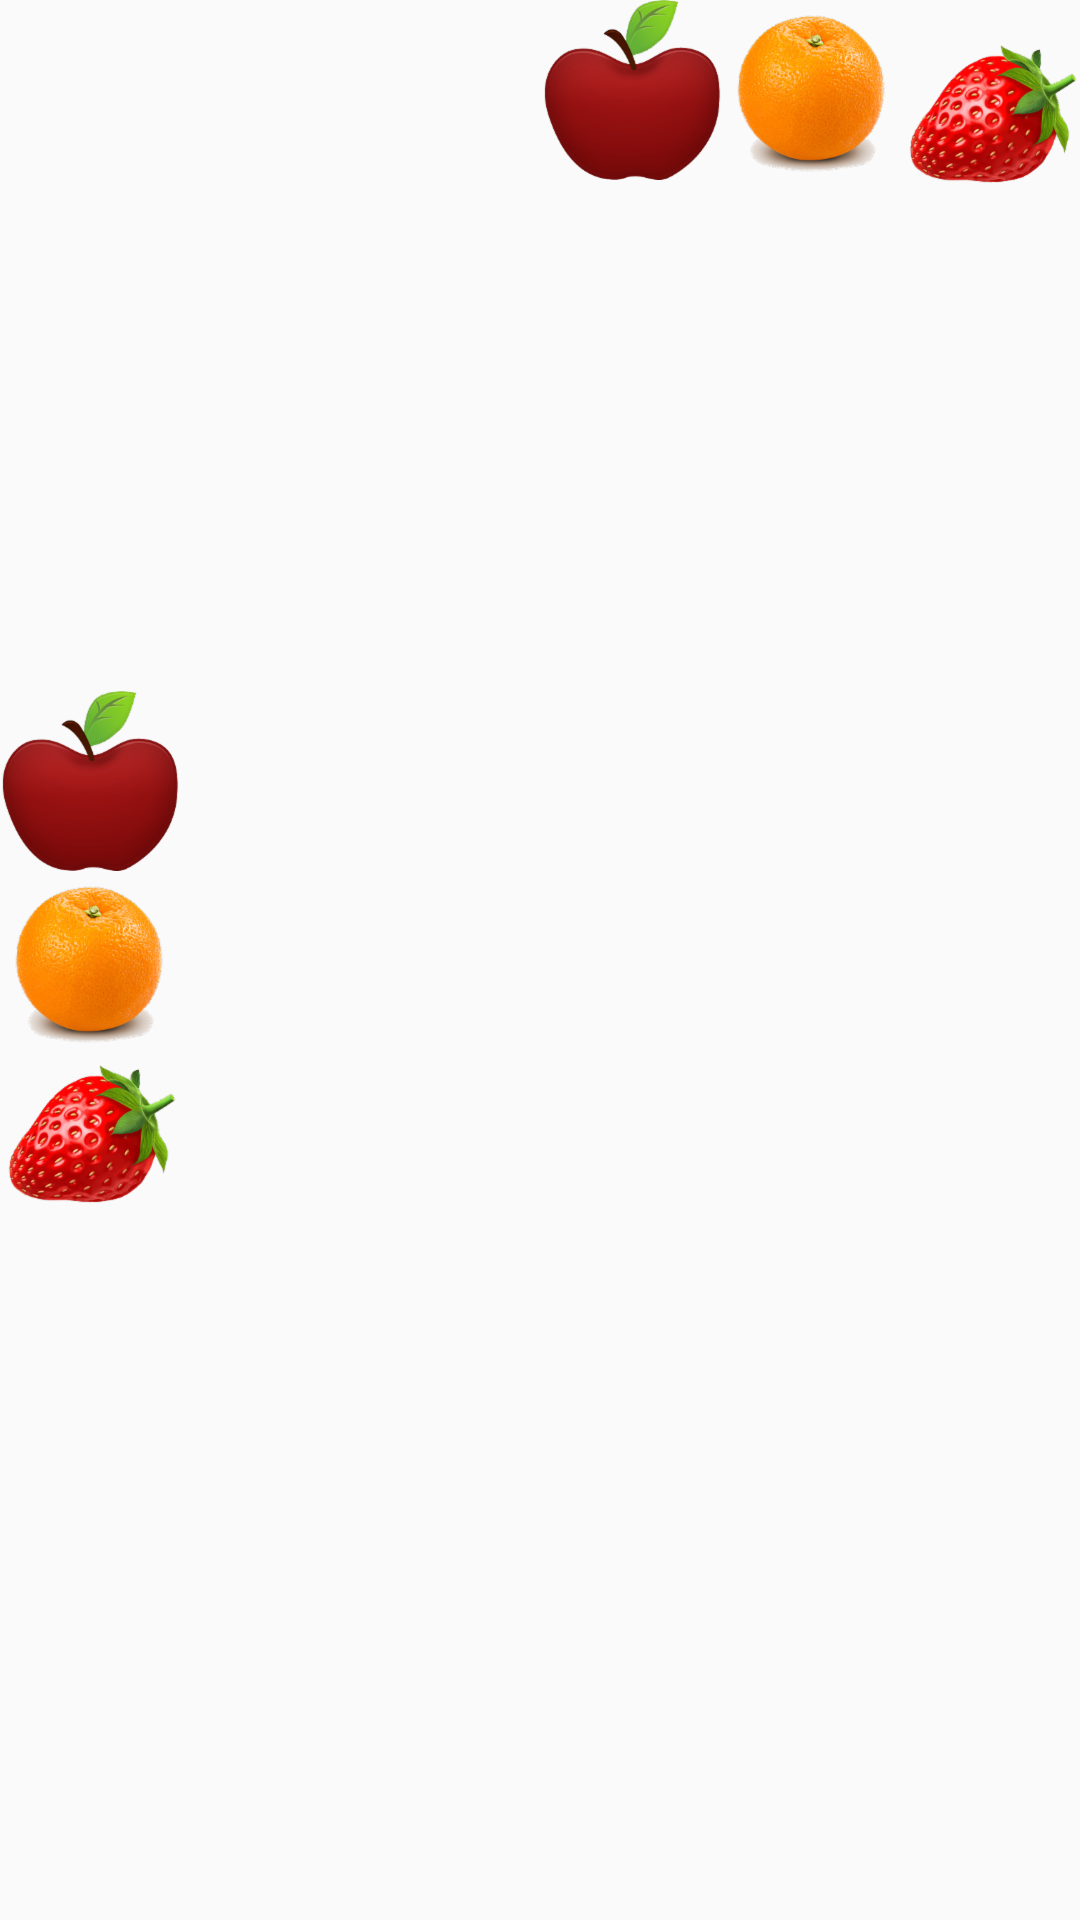

Icons on this 1080px x 1920px Android screen, each with its box as (x1, y1, x2, y2):
apple: (544, 0, 720, 180), (2, 691, 178, 871)
strawberry: (910, 45, 1076, 183), (9, 1065, 175, 1203)
